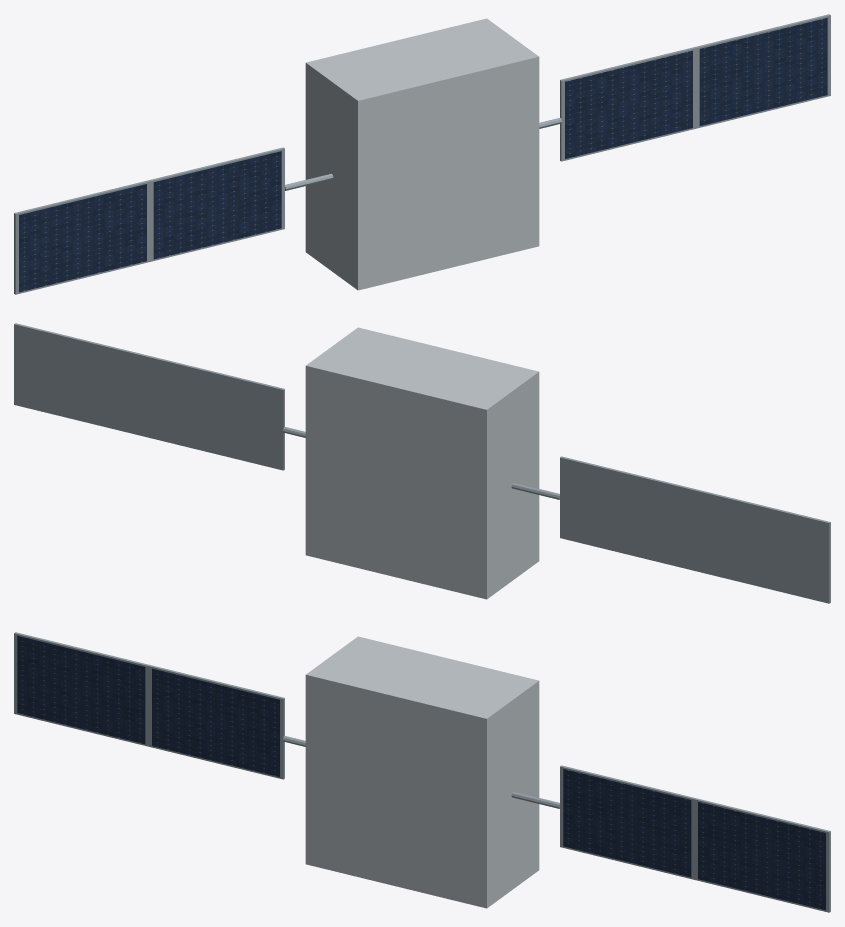
Rendered from ref-t310-35937.glb.
3 views of the same model, one above another, from view 1: azimuth 30°, elevation 25°; view 2: azimuth 150°, elevation 25°; view 3: azimuth 330°, elevation 25° (orthographic).
Visible parts, largest first — view 1: Spacecraft body, Photovoltaic laminates (×4), Array frame (×4); view 2: Spacecraft body, Array frame (×4); view 3: Spacecraft body, Photovoltaic laminates (×4), Array frame (×4).
Boxes of the visible parts, bbox=[...] form: Spacecraft body: bbox=[305, 18, 539, 290]; Photovoltaic laminates (×4): bbox=[19, 18, 827, 292]; Array frame (×4): bbox=[14, 14, 830, 294]; Spacecraft body: bbox=[305, 327, 539, 599]; Array frame (×4): bbox=[14, 323, 830, 603]; Spacecraft body: bbox=[305, 636, 539, 908]; Photovoltaic laminates (×4): bbox=[17, 636, 825, 910]; Array frame (×4): bbox=[14, 632, 830, 912].
Size of the model in its own units: 9 by 2 by 1.
Materials: 3 (1 with a texture image).
